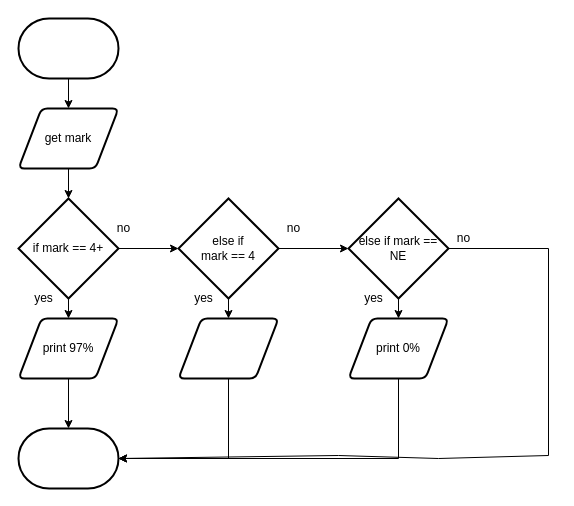
Some shapes in this 574 by 506 pixel diagram are drawn without their labels. The shapes that lost their labels are listed below. From the top down, each one's centre as x and y in pixels, then its label:
At point 68,48: "start".
At point 228,348: "print 90%".
At point 68,458: "stop".
